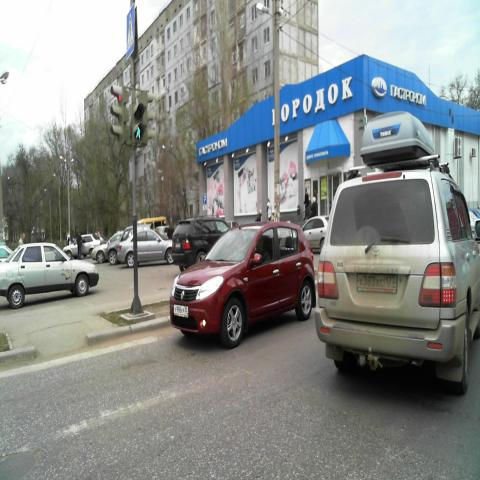5_19_1: (126, 7, 137, 61)
